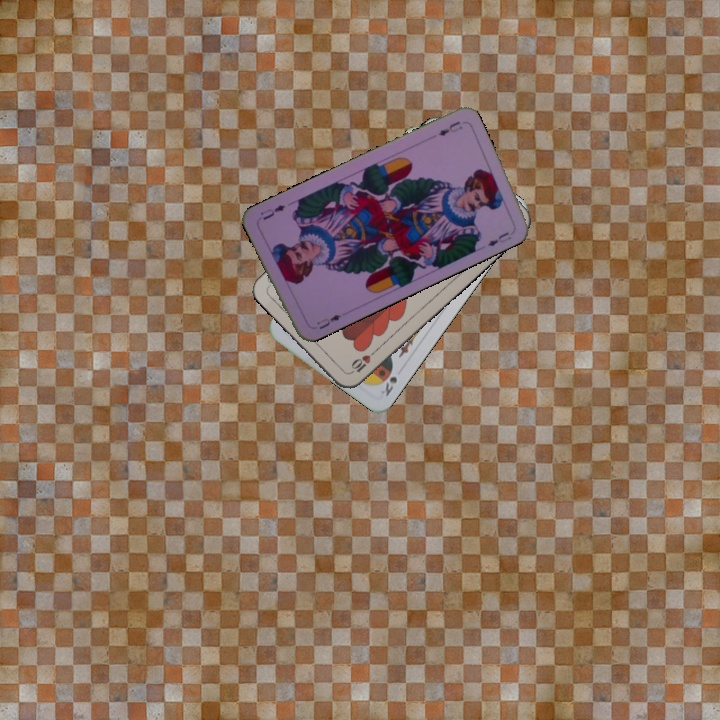EU: (434, 117, 465, 139), (313, 310, 343, 332)
H10: (345, 346, 379, 377)
SK: (376, 372, 400, 399)
